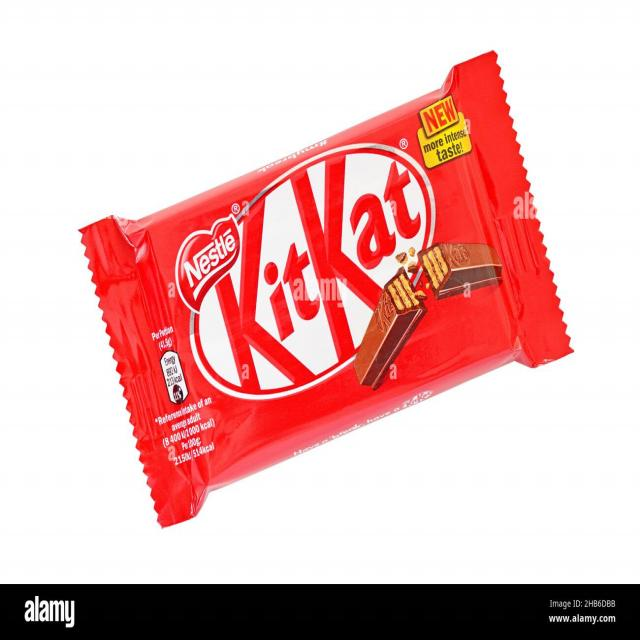kitkat: (76, 47, 574, 532)
